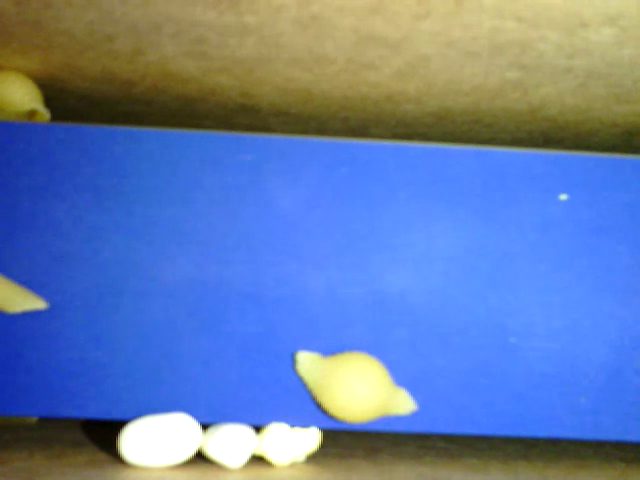penne: (1, 270, 52, 318)
shell: (294, 347, 421, 423), (4, 66, 51, 129)
